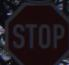Stop sign: (0, 0, 68, 64)
